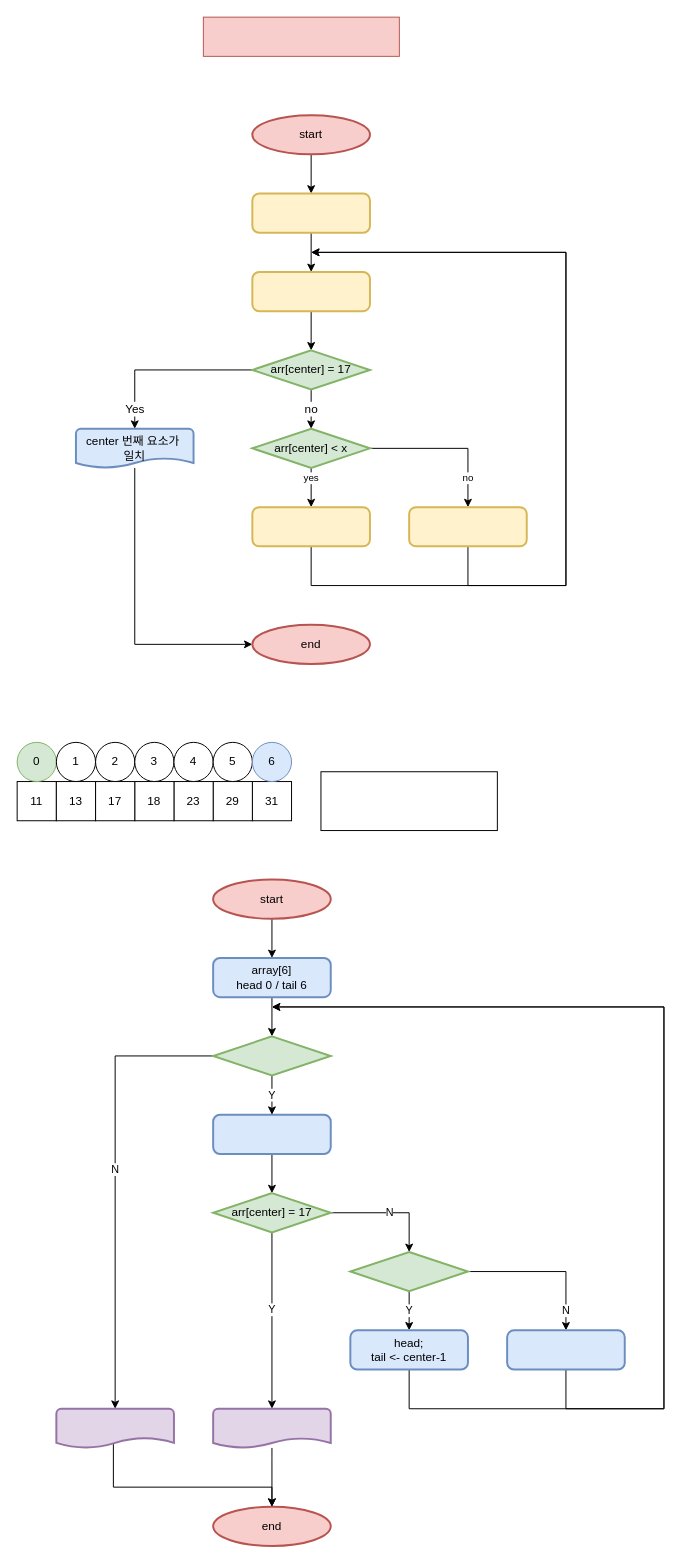
Some shapes in this 689 by 1564 pixel diagram are drawn without their labels. Here are the shapes that lost their labels. From the top down, the box of each, then its label:
(202, 16, 399, 56): Binary Search
(251, 192, 370, 233): head = 0 tail = 6
(251, 270, 370, 312): center = (head + tail) / 2
(251, 506, 370, 547): head = center + 1 tail;
(408, 506, 527, 547): head ; tail = center - 1
(320, 771, 497, 831): head 0 tail 6 center 3 18 head 0 tail 2 center 1 13 center +1 2 17 완료
(212, 1035, 331, 1076): head<=tail
(212, 1113, 331, 1154): center = (head+tail)/2
(349, 1250, 468, 1292): arr[center] > x
(506, 1329, 625, 1370): tail head <- center+1
(55, 1407, 174, 1448): 찾는 값이 없습니다.
(212, 1407, 331, 1448): 찾는 값이 center번째에 있습니다.
